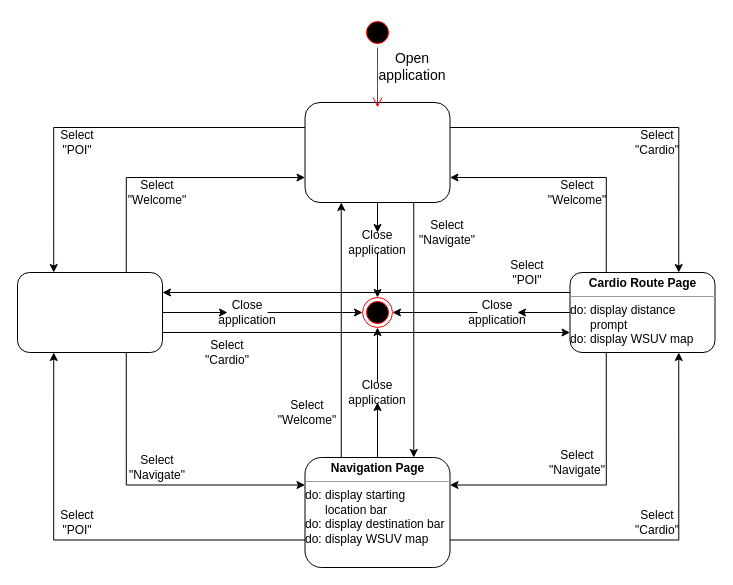
The diagram is 733 pixels wide and 585 high, and some of its shapes have lost their labels. The centre of each missing label's shape, as x and y in pixels:
"Landing Page do: display greeting and brief help text do: display GitHub link" belongs at (377,152).
"Points of Interest Page do: display search bar do: display WSUV map" belongs at (89,312).
